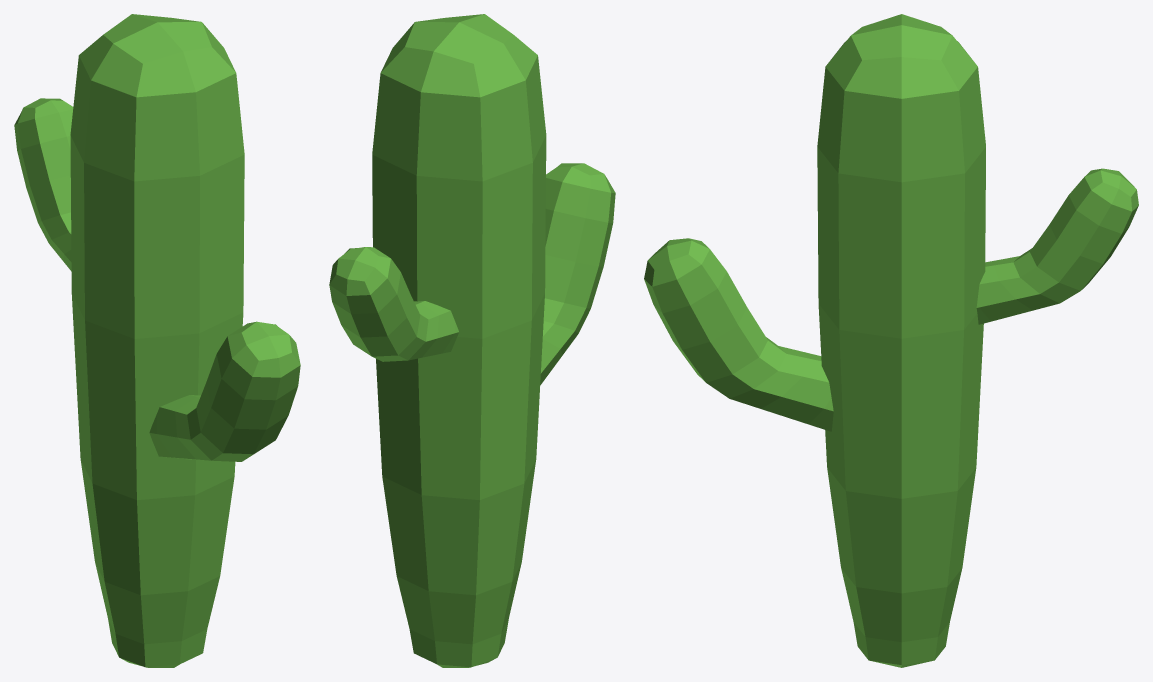
The model's file is nature-cactus-3.glb.
3 renders of one model, left to right at view 1: azimuth 30°, elevation 25°; view 2: azimuth 150°, elevation 25°; view 3: azimuth 270°, elevation 25°, orthographic.
Parts seen in each view (by area): view 1: Cactus_3; view 2: Cactus_3; view 3: Cactus_3.
Part boxes in pixels (x1=…): Cactus_3: x1=14, y1=14, x2=300, y2=667; Cactus_3: x1=329, y1=14, x2=615, y2=667; Cactus_3: x1=644, y1=14, x2=1138, y2=667.
Bounding box in the file's own units: 34.19 × 141 × 100.
